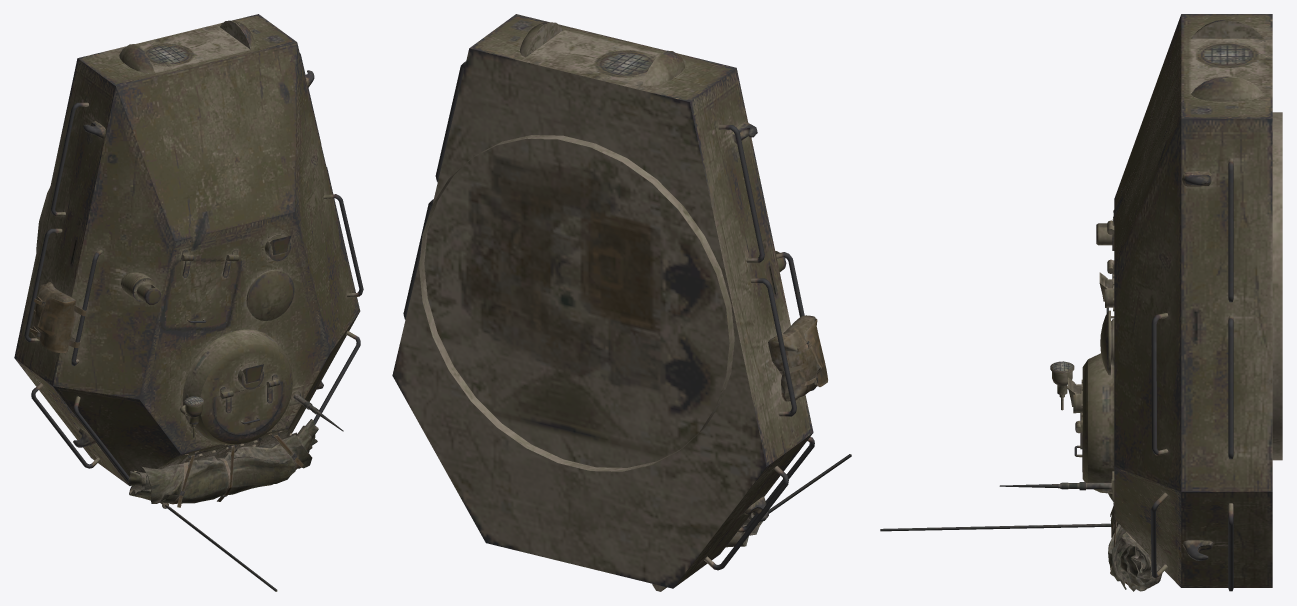
Rendered from Turret_01.glb.
3 views of the same model, side by side, from view 1: azimuth 30°, elevation 25°; view 2: azimuth 150°, elevation 25°; view 3: azimuth 270°, elevation 25° (orthographic). The views are drawn at different scales.
Visible parts, largest first — view 1: set_0_group_0; view 2: set_0_group_0; view 3: set_0_group_0.
Part boxes in pixels (x1=…): set_0_group_0: x1=14, y1=14, x2=363, y2=591; set_0_group_0: x1=392, y1=14, x2=851, y2=591; set_0_group_0: x1=880, y1=14, x2=1282, y2=591.
Size of the model in its own units: 2.56 by 3.26 by 2.3.
Materials: 1 (1 with a texture image).
